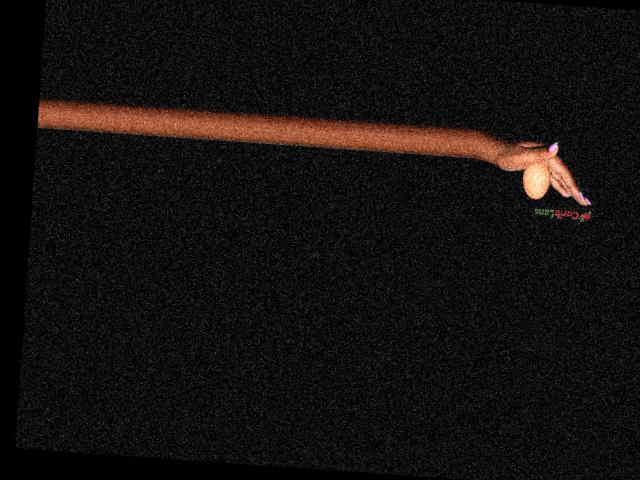egg: (521, 161, 551, 200)
